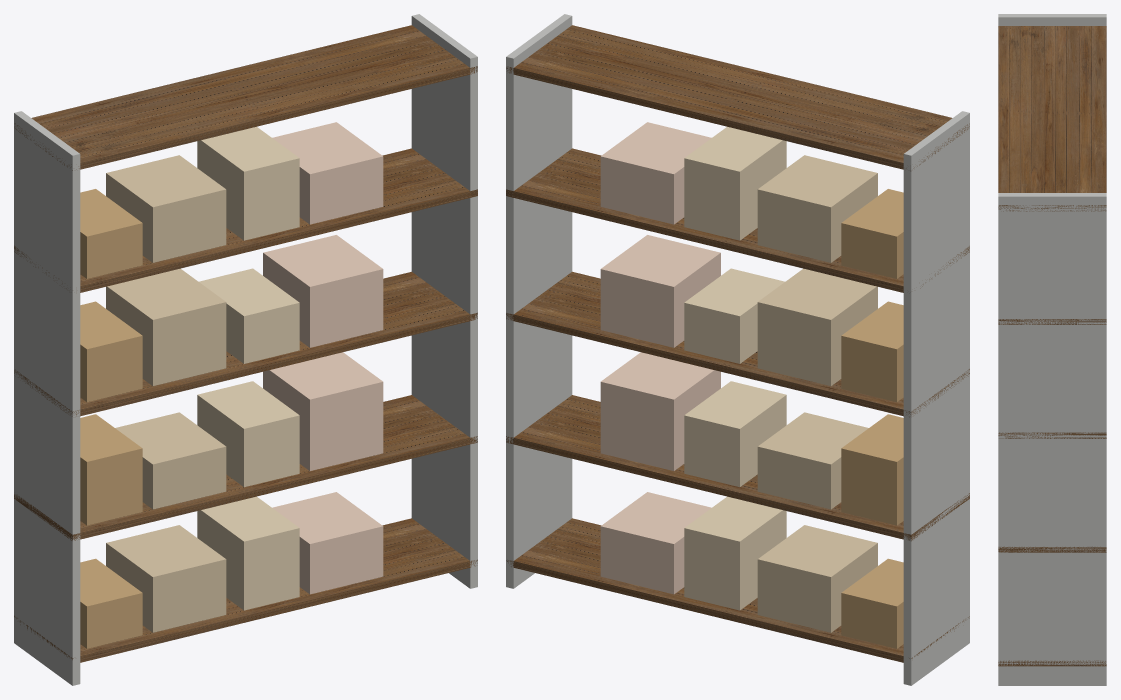
Rendered from estante_deposito_160.glb.
The picture shows the model from 3 angles, left to right: view 1: azimuth 30°, elevation 25°; view 2: azimuth 150°, elevation 25°; view 3: azimuth 270°, elevation 25°; orthographic projection. The views are drawn at different scales.
Parts seen in each view (by area): view 1: estante_deposito_160; view 2: estante_deposito_160; view 3: estante_deposito_160.
Part boxes in pixels (x1,y1,x2,y2): estante_deposito_160: [14, 14, 477, 685]; estante_deposito_160: [506, 14, 969, 685]; estante_deposito_160: [998, 14, 1106, 685].
Bounding box in the file's own units: 1.6 × 2 × 0.4.
6 materials, 1 textured.
